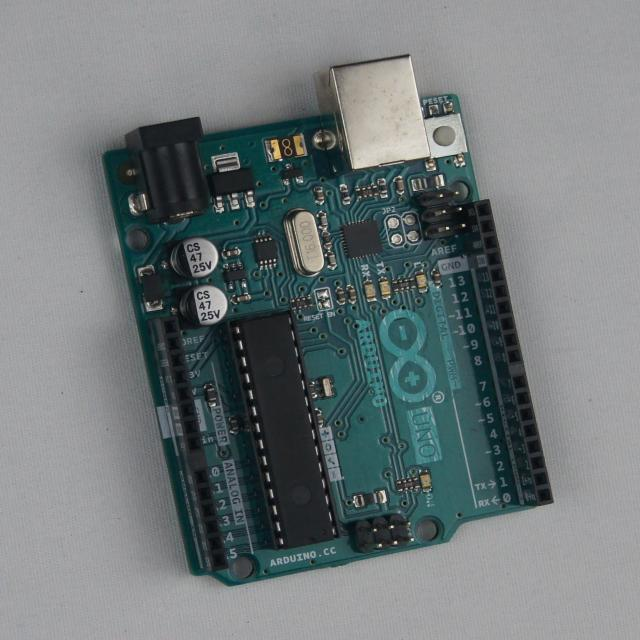Arduino Uno -Green-: (105, 56, 553, 585)
